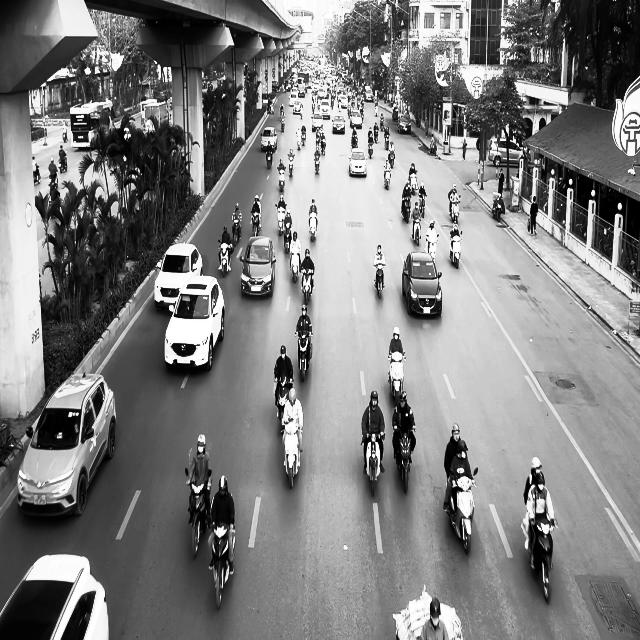bus: (70, 100, 114, 150)
car: (17, 371, 117, 518), (0, 553, 110, 639), (164, 274, 225, 372), (154, 242, 203, 312), (402, 251, 443, 317), (240, 236, 276, 298), (488, 138, 524, 167), (348, 148, 368, 176), (260, 126, 278, 151), (398, 114, 412, 134), (349, 109, 363, 129), (332, 115, 346, 134)
motorbike: (522, 515, 558, 603), (444, 466, 478, 554), (185, 467, 212, 559), (210, 523, 236, 609), (281, 418, 303, 489), (394, 424, 416, 493), (362, 432, 385, 496), (275, 378, 293, 432), (295, 329, 313, 382), (388, 352, 406, 400), (218, 239, 233, 277), (449, 230, 463, 268), (301, 267, 315, 303), (374, 260, 386, 299), (425, 234, 440, 264), (290, 247, 301, 282), (492, 192, 504, 221), (276, 204, 286, 235), (232, 216, 242, 246), (412, 214, 422, 244), (402, 192, 412, 222), (450, 198, 460, 226), (251, 210, 261, 237), (309, 210, 318, 240), (284, 224, 293, 253), (58, 152, 68, 173), (278, 166, 286, 192), (419, 192, 427, 218), (384, 162, 391, 189), (266, 146, 274, 169), (314, 152, 321, 174), (288, 155, 295, 176)
